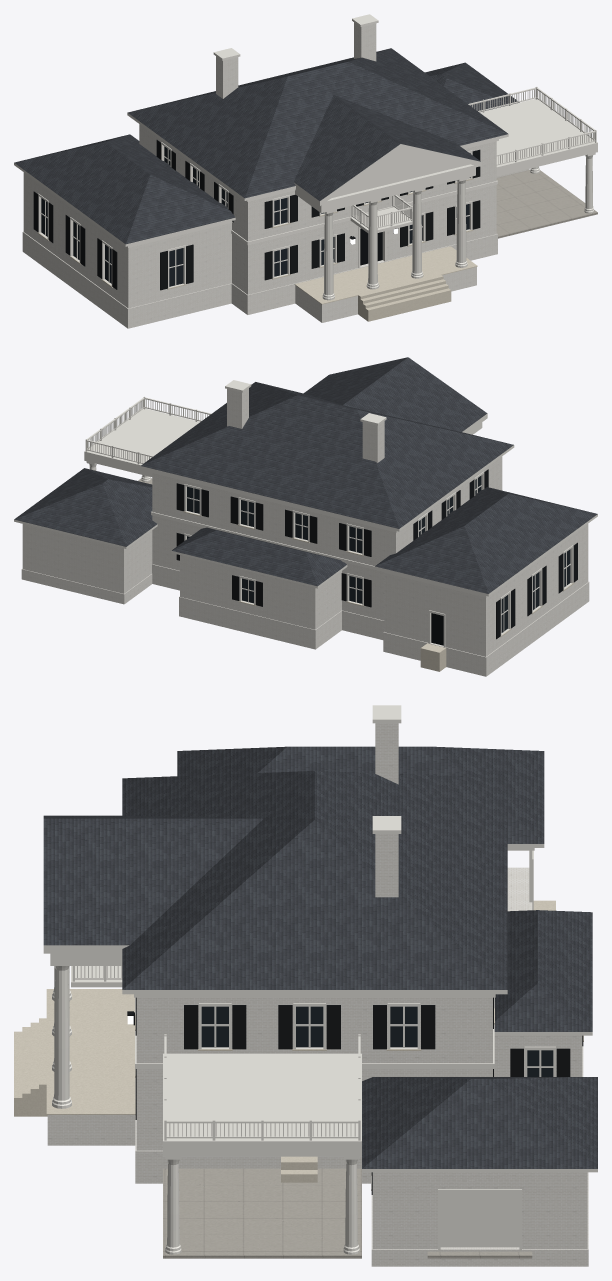
File: williams-funeral-home.glb
3 views of the same model, one above another, from view 1: azimuth 30°, elevation 25°; view 2: azimuth 150°, elevation 25°; view 3: azimuth 270°, elevation 25° (orthographic). The views are drawn at different scales.
Parts seen in each view (by area): view 1: FuneralHome; view 2: FuneralHome; view 3: FuneralHome.
Boxes of the visible parts, box(x1,y1,x2,y2) form: FuneralHome: box(14, 14, 597, 328); FuneralHome: box(14, 357, 597, 676); FuneralHome: box(14, 705, 597, 1266).
Size of the model in its own units: 33.85 by 13.28 by 22.28.
9 materials, 4 textured.
